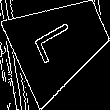L_NE: (34, 18, 87, 68)
